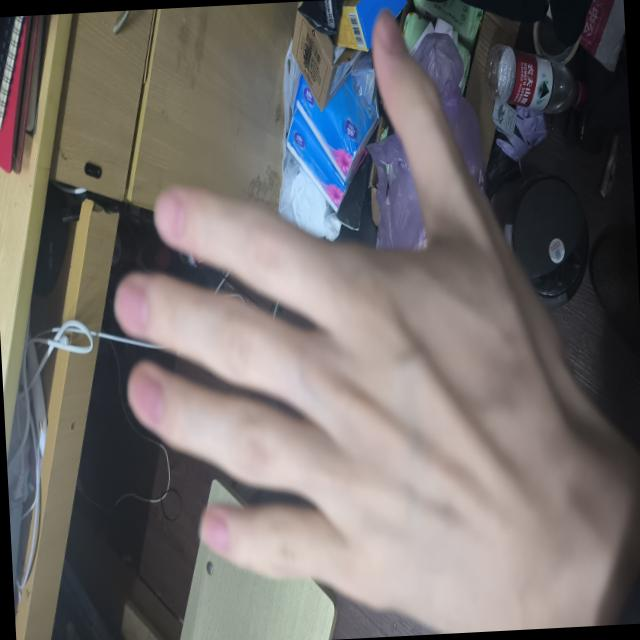Nail: (129, 370, 163, 418), (115, 281, 148, 330), (376, 10, 409, 54), (155, 191, 185, 236), (200, 509, 227, 547)
